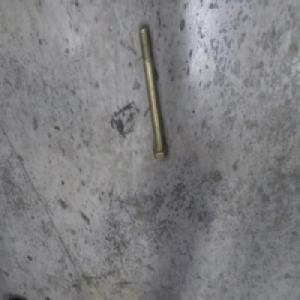Bolt: (135, 28, 169, 164)
